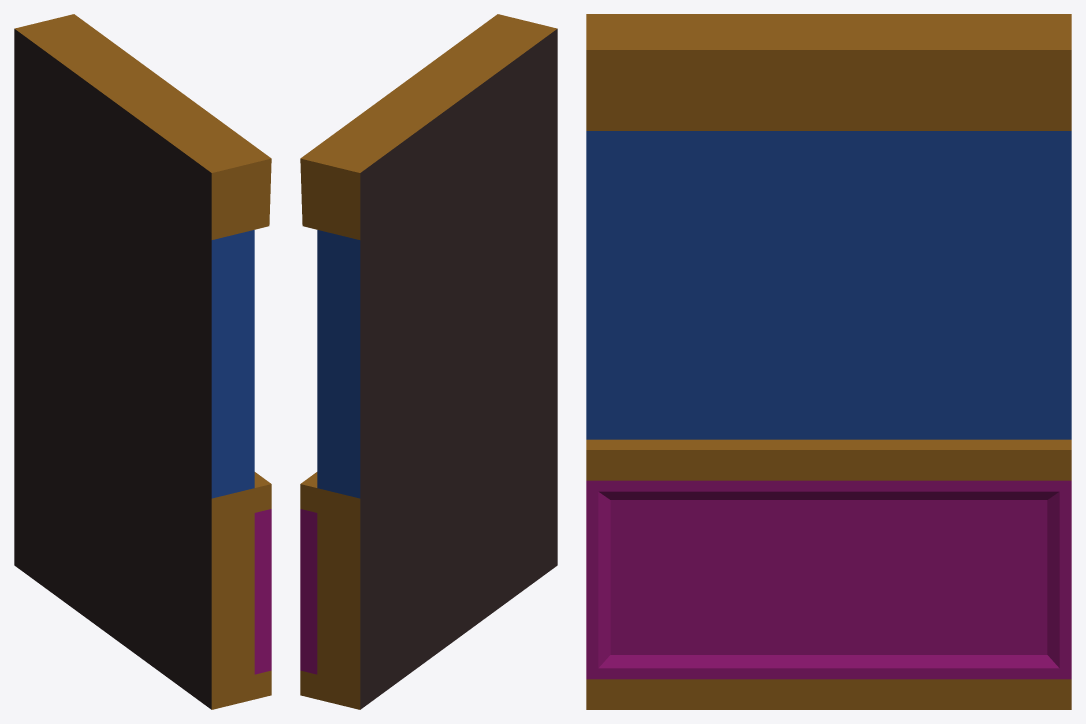
Rendered from Wall1.FBX.
The picture shows the model from 3 angles, left to right: view 1: azimuth 30°, elevation 25°; view 2: azimuth 150°, elevation 25°; view 3: azimuth 270°, elevation 25°; orthographic projection. The views are drawn at different scales.
Visible parts, largest first — view 1: Wall1_low; view 2: Wall1_low; view 3: Wall1_low.
Part boxes in pixels (x1=…): Wall1_low: x1=14, y1=14, x2=271, y2=709; Wall1_low: x1=300, y1=14, x2=557, y2=709; Wall1_low: x1=586, y1=14, x2=1071, y2=709.
Bounding box in the file's own units: 0.5833 × 3.33 × 5.
